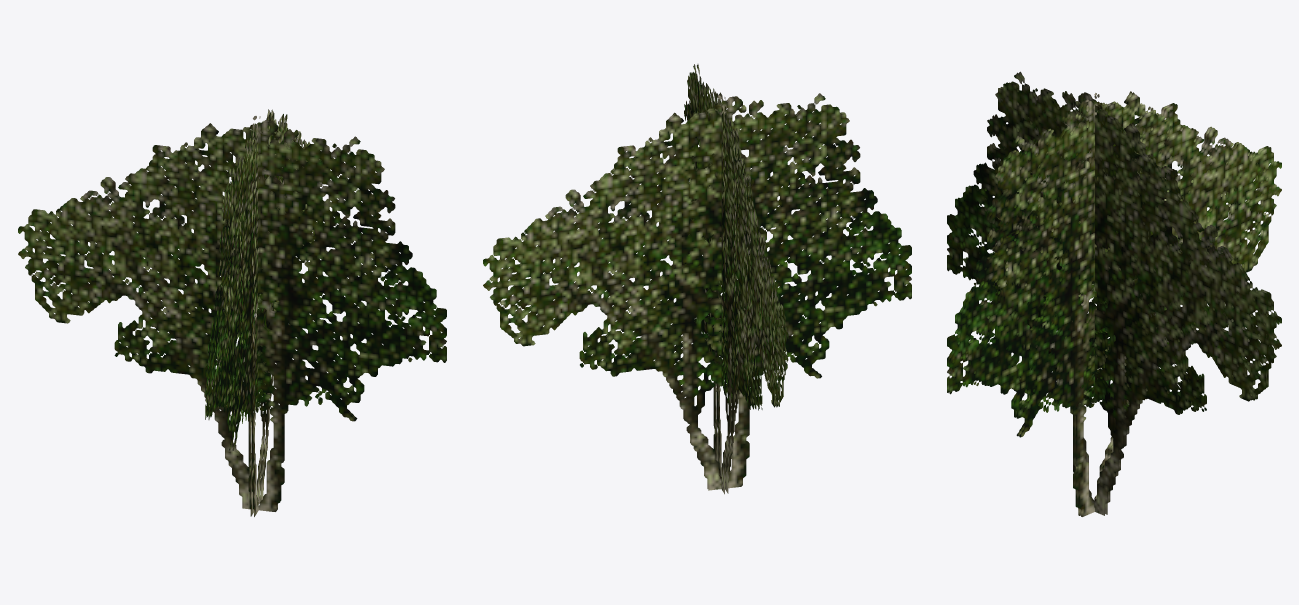
File: tree083.fbx
The picture shows the model from 3 angles, left to right: view 1: azimuth 30°, elevation 25°; view 2: azimuth 150°, elevation 25°; view 3: azimuth 270°, elevation 25°; orthographic projection. The views are drawn at different scales.
Parts seen in each view (by area): view 1: tree083; view 2: tree083; view 3: tree083.
Part boxes in pixels (x1,y1,x2,y2): tree083: [18, 109, 446, 516]; tree083: [483, 64, 911, 494]; tree083: [947, 71, 1281, 516].
Bounding box in the file's own units: 268 × 335 × 241.
Materials: 1 (1 with a texture image).
